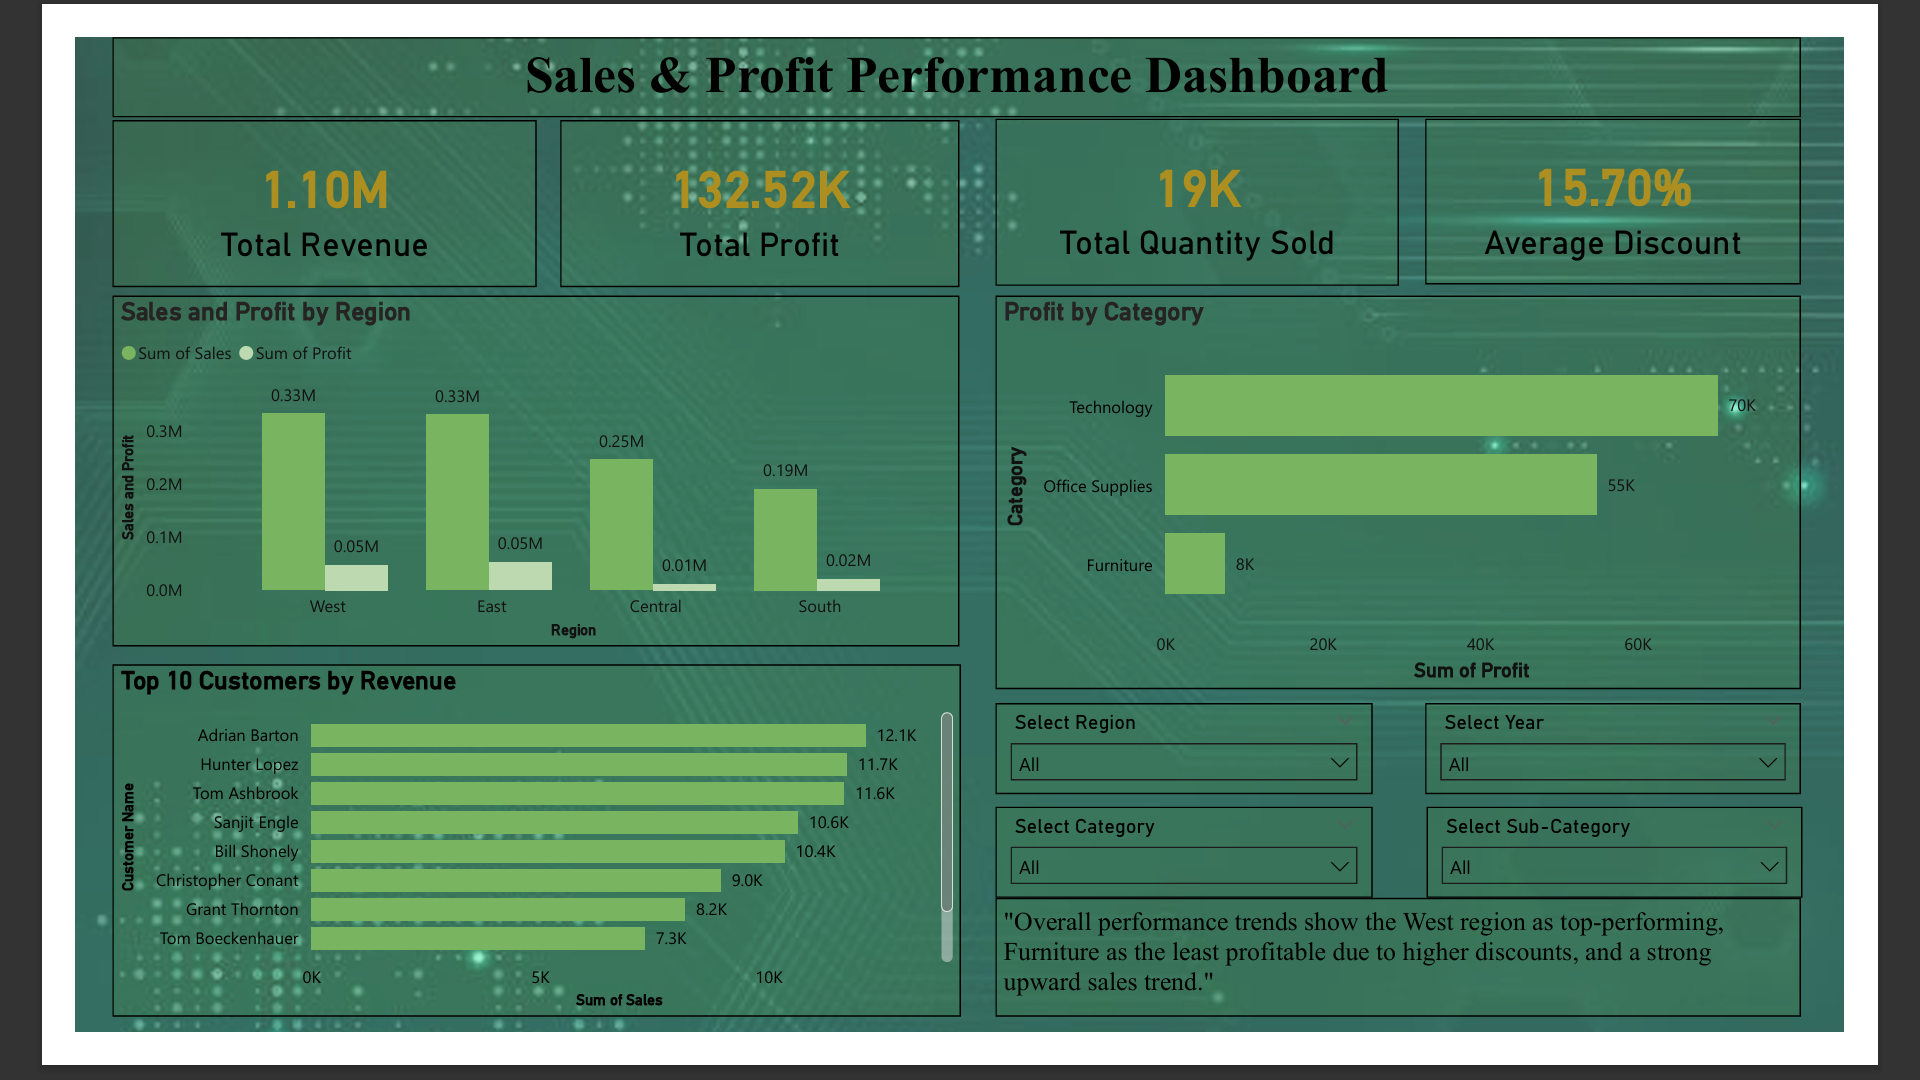

This screenshot's page, from the dashboard's own definition file:
{"tool":"powerbi","page":{"name":"Sales & Profit Performance ","canvas":[1280,720],"ordinal":1},"visuals":[{"type":"textbox","box":[26.8,0,1222.3,58],"z":0},{"type":"card","title":" Total Sales","fields":{"Values":["Sample - Superstore.Total Profit"]},"box":[351.5,60.2,288.8,120.4],"z":1000},{"type":"card","title":" Total Sales","fields":{"Values":["Sample - Superstore.Average Discount"]},"box":[977,59,271.6,120.4],"z":2000},{"type":"card","title":" Total Sales","fields":{"Values":["Sample - Superstore.Total Quantity Sold"]},"box":[666.2,59.5,291.5,120.4],"z":3000},{"type":"clusteredColumnChart","title":"Sales and Profit by Region","fields":{"Category":["Sample - Superstore.Region"],"Y":["Sample - Superstore.Sales","Sample - Superstore.Profit"]},"box":[27,186.8,613.2,254.4],"z":4000},{"type":"barChart","title":"Profit by Category","fields":{"Category":["Sample - Superstore.Category","Sample - Superstore.Sub-Category"],"Y":["Sample - Superstore.Profit"]},"box":[666.1,186.8,582.5,285.1],"z":5000},{"type":"barChart","title":"Top 10 Customers by  Revenue","fields":{"Category":["Sample - Superstore.Customer Name"],"Y":["Sample - Superstore.Sales"]},"box":[26.8,453.5,614.1,255.8],"z":6000},{"type":"card","title":" Total Sales","fields":{"Values":["Sample - Superstore.Total Revenue"]},"box":[27,60.2,307.2,120.4],"z":11000},{"type":"textbox","box":[666.2,623.1,582.9,86.2],"z":12000},{"type":"slicer","fields":{"Values":["Sample - Superstore.Region"]},"box":[666.1,481.7,272.8,66.4],"z":12001},{"type":"slicer","fields":{"Values":["DateTable.Year"]},"box":[977,481.7,271.6,66.4],"z":12002},{"type":"slicer","fields":{"Values":["Sample - Superstore.Category"]},"box":[666.1,556.7,272.8,66.4],"z":12003},{"type":"slicer","fields":{"Values":["Sample - Superstore.Sub-Category"]},"box":[978.2,556.7,271.6,66.4],"z":12004}]}

Visuals, with their boxes in screenshot pixels (x1, y1, x2, y2), scaled from the page's 1280x720 canvas onto the 1920x1080 screenshot:
textbox: bbox(40, 0, 1874, 87)
" Total Sales" card: bbox(527, 90, 960, 271)
" Total Sales" card: bbox(1466, 88, 1873, 269)
" Total Sales" card: bbox(999, 89, 1437, 270)
"Sales and Profit by Region" clusteredColumnChart: bbox(40, 280, 960, 662)
"Profit by Category" barChart: bbox(999, 280, 1873, 708)
"Top 10 Customers by  Revenue" barChart: bbox(40, 680, 961, 1064)
" Total Sales" card: bbox(40, 90, 501, 271)
textbox: bbox(999, 935, 1874, 1064)
slicer - Sample - Superstore.Region: bbox(999, 723, 1408, 822)
slicer - DateTable.Year: bbox(1466, 723, 1873, 822)
slicer - Sample - Superstore.Category: bbox(999, 835, 1408, 935)
slicer - Sample - Superstore.Sub-Category: bbox(1467, 835, 1875, 935)
